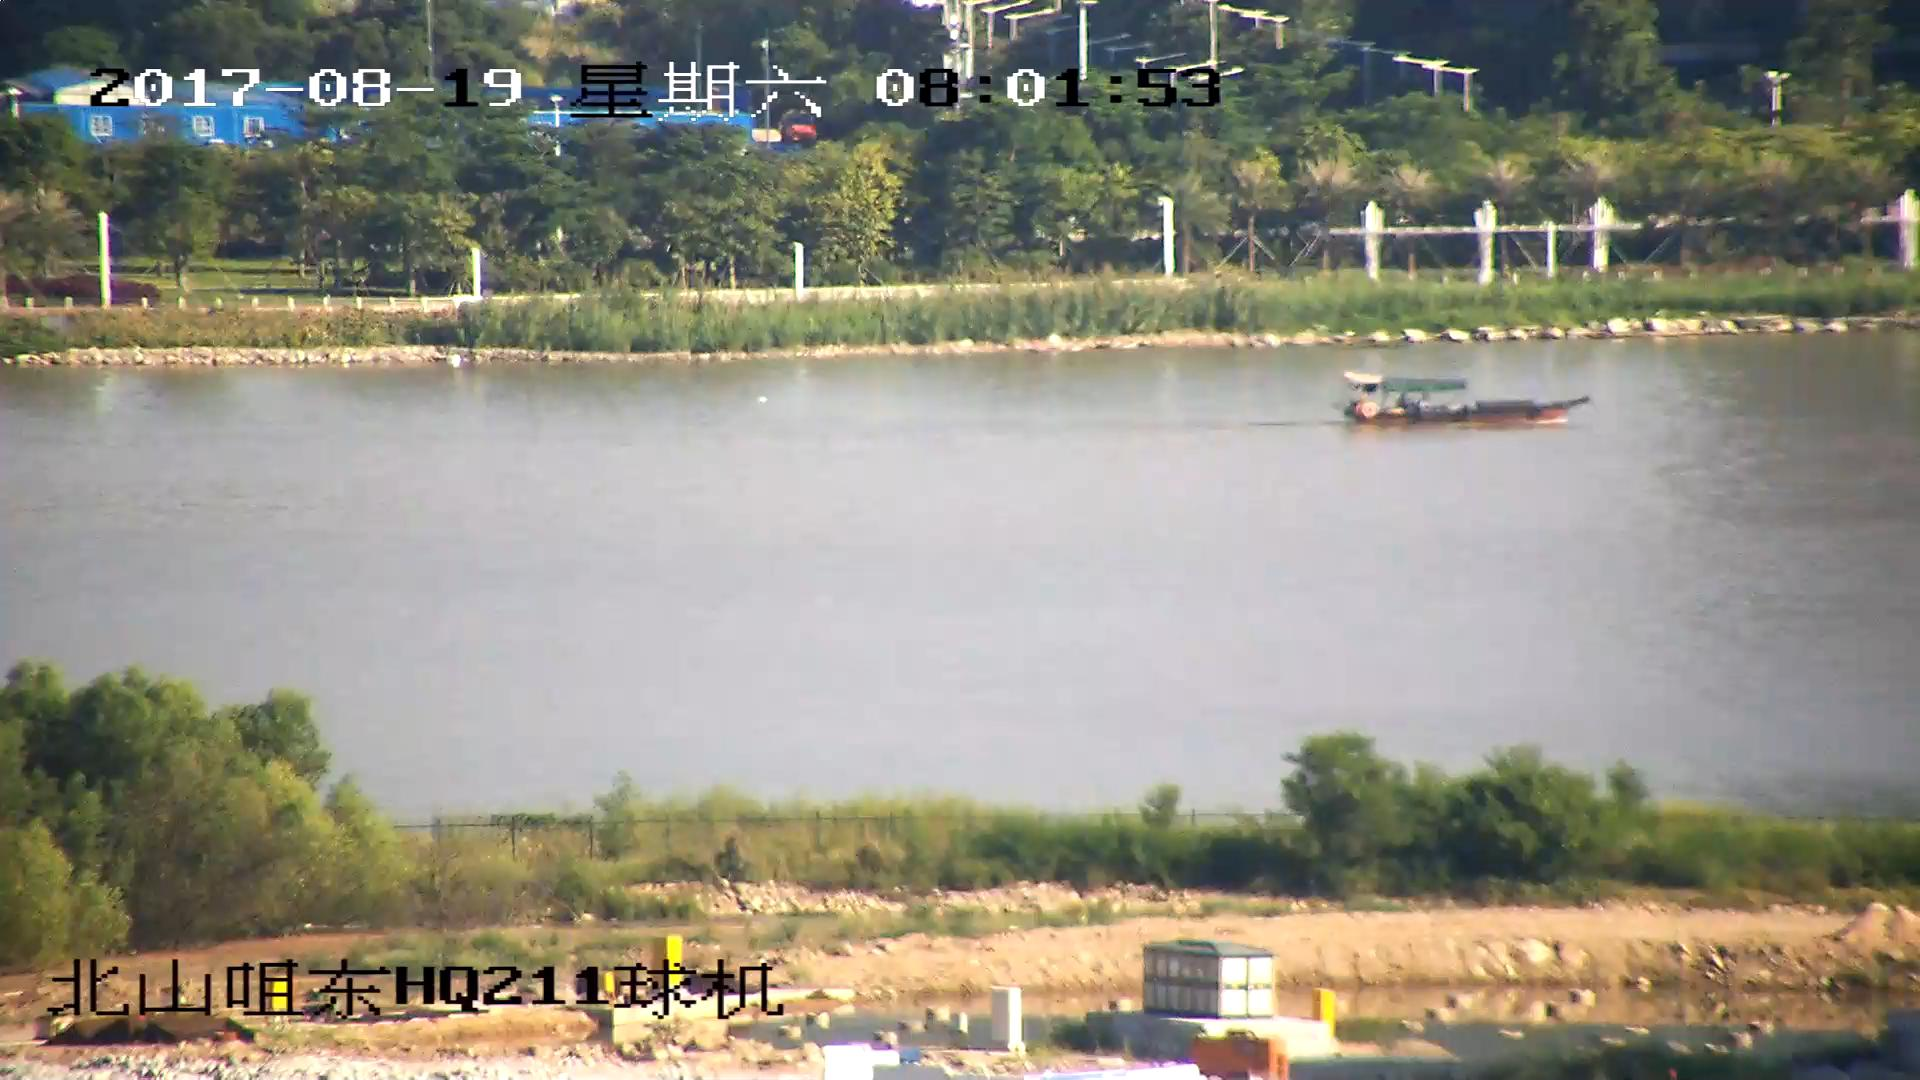fishing boat: (1339, 373, 1590, 430)
